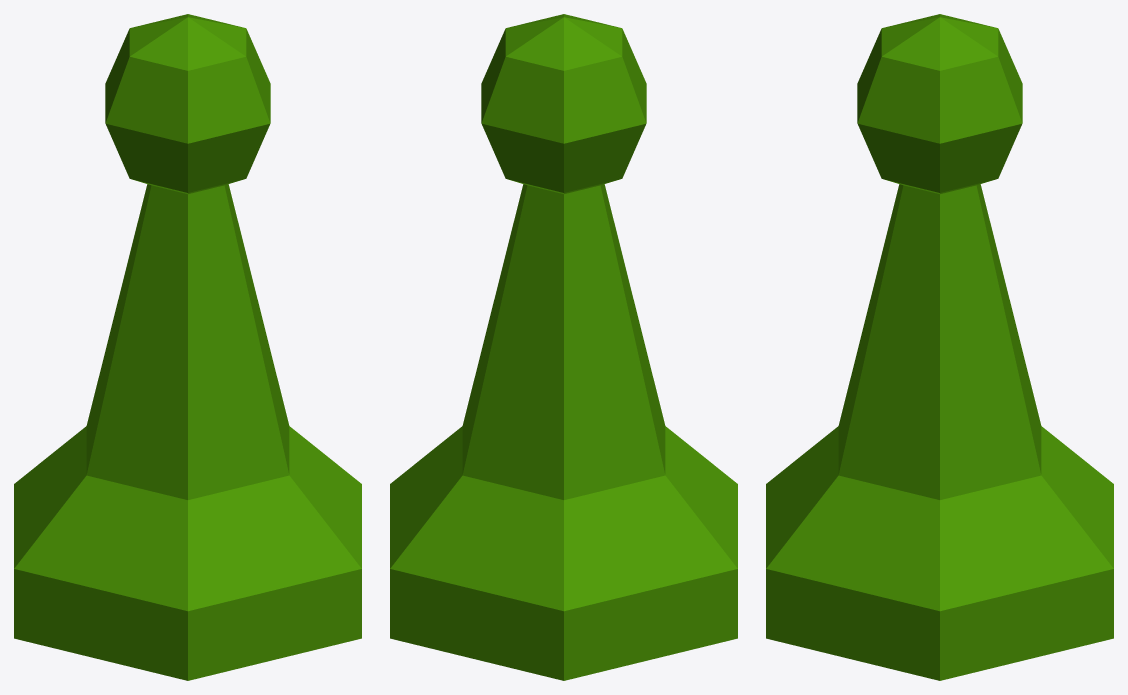
File: Boardgame_Player_Piece_General_Green_01.fbx
3 renders of one model, left to right at view 1: azimuth 30°, elevation 25°; view 2: azimuth 150°, elevation 25°; view 3: azimuth 270°, elevation 25°, orthographic.
Visible parts, largest first — view 1: Model; view 2: Model; view 3: Model.
Part boxes in pixels (bbox=[...]): Model: bbox=[14, 14, 361, 680]; Model: bbox=[390, 14, 737, 680]; Model: bbox=[766, 14, 1113, 680].
Size of the model in its own units: 187 by 297 by 162.
